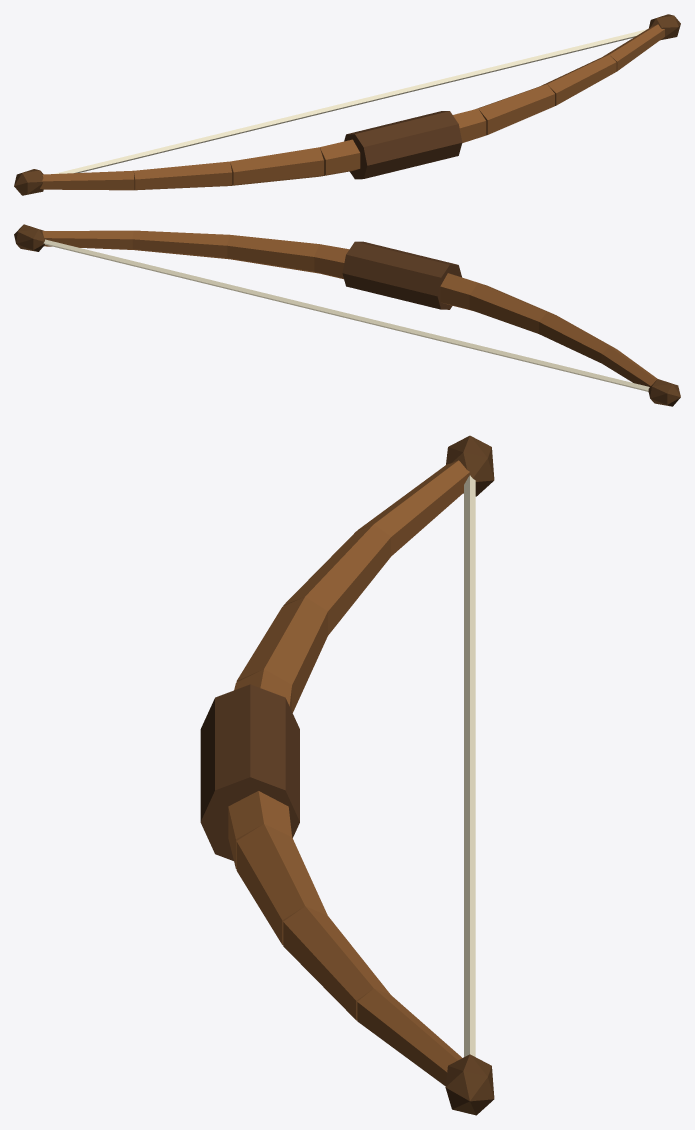
Rendered from drop_oak_shortbow.glb.
3 views of the same model, one above another, from view 1: azimuth 30°, elevation 25°; view 2: azimuth 150°, elevation 25°; view 3: azimuth 270°, elevation 25° (orthographic). The views are drawn at different scales.
Visible parts, largest first — view 1: drop_oak_shortbow; view 2: drop_oak_shortbow; view 3: drop_oak_shortbow.
Part boxes in pixels (box(x1,y1,x2,y2)): drop_oak_shortbow: box(14, 14, 680, 195); drop_oak_shortbow: box(14, 224, 680, 406); drop_oak_shortbow: box(200, 435, 494, 1115).
Bounding box in the file's own units: 0.8416 × 0.0544 × 0.1606.
